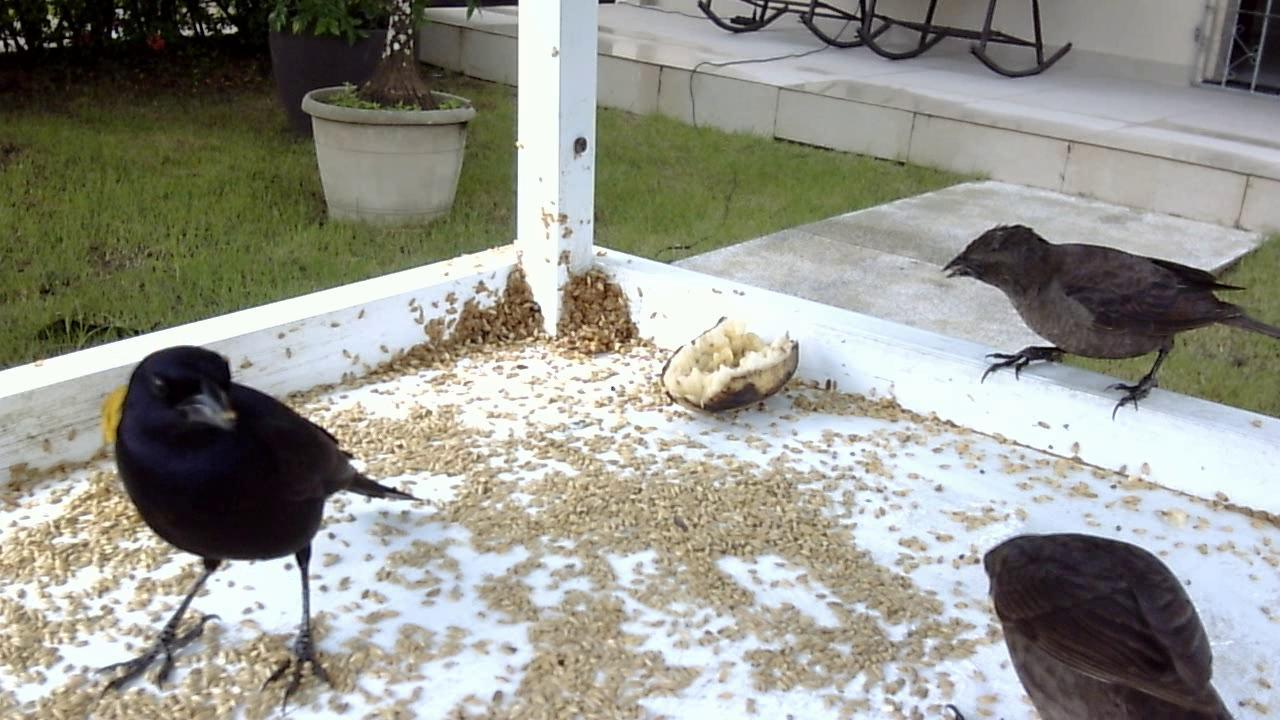chupim: (86, 334, 431, 708), (933, 217, 1280, 428), (966, 515, 1254, 720)
